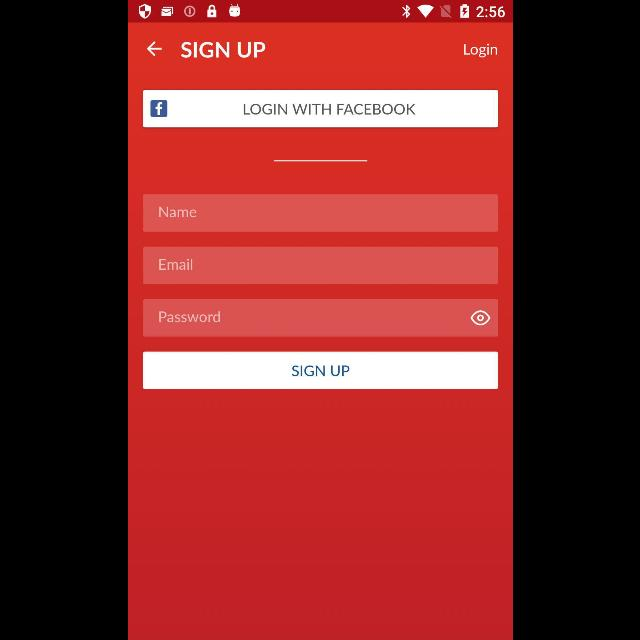icon: (470, 310, 490, 326), (146, 42, 162, 56)
input: (142, 194, 498, 232), (142, 247, 498, 285), (142, 299, 498, 337)
text: (180, 42, 264, 58), (158, 311, 220, 323), (463, 44, 497, 58), (158, 206, 196, 218), (158, 260, 192, 270)
textbutton: (142, 90, 498, 128), (142, 351, 498, 389)
uppertaskbar: (128, 1, 512, 23)
